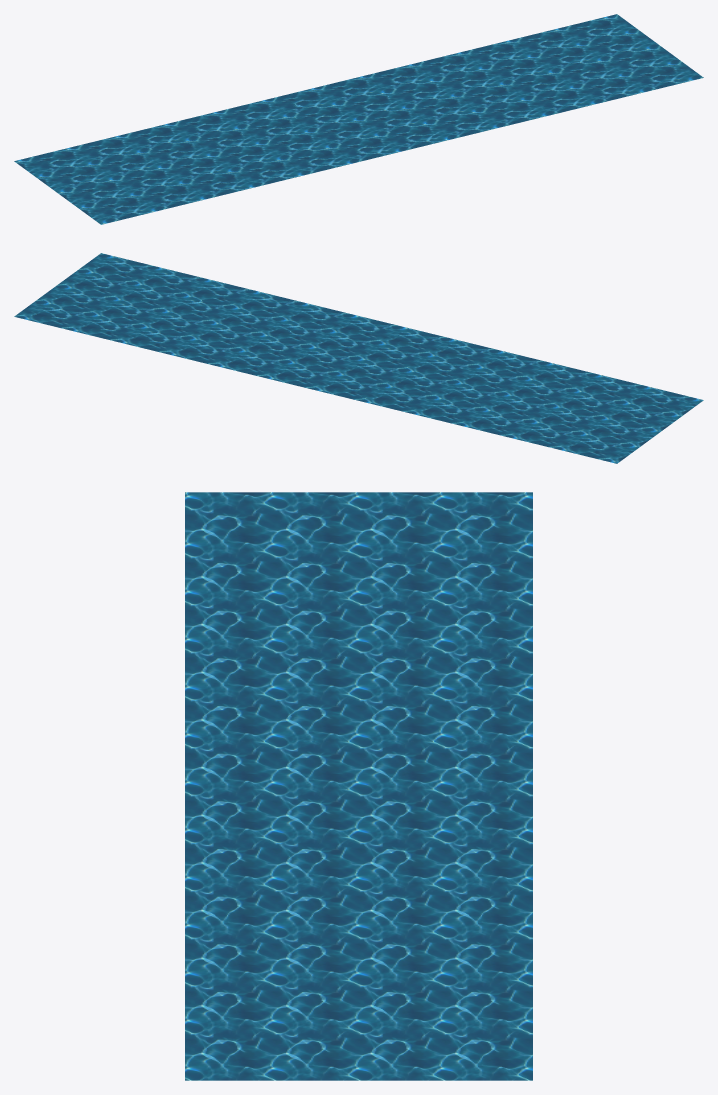
The model's file is fb_lianhuachi_shuimian.FBX.
3 views of the same model, one above another, from view 1: azimuth 30°, elevation 25°; view 2: azimuth 150°, elevation 25°; view 3: azimuth 270°, elevation 25° (orthographic). The views are drawn at different scales.
Parts seen in each view (by area): view 1: Object01; view 2: Object01; view 3: Object01.
Part boxes in pixels (x1,y1,x2,y2): Object01: [14, 14, 703, 224]; Object01: [14, 253, 703, 463]; Object01: [185, 492, 532, 1080].
Size of the model in its own units: 80.02 by 5.66e-15 by 20.
Materials: 1 (1 with a texture image).
